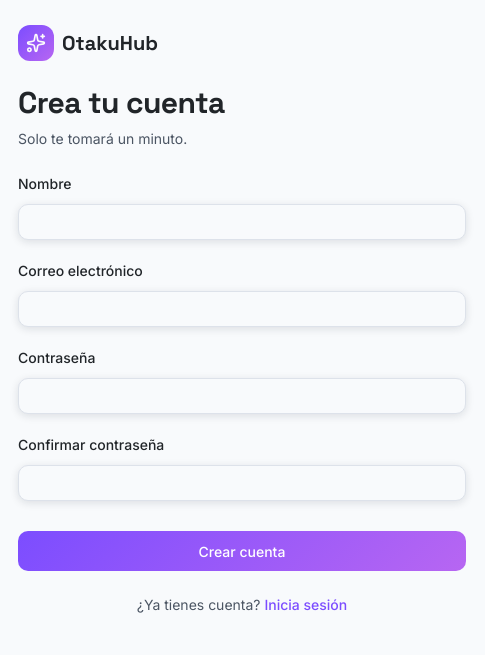
Test: Register Form › should show error when email is already registered
In the field with id "name": [242, 222] box [18, 204, 466, 240], type "Usuario Test"
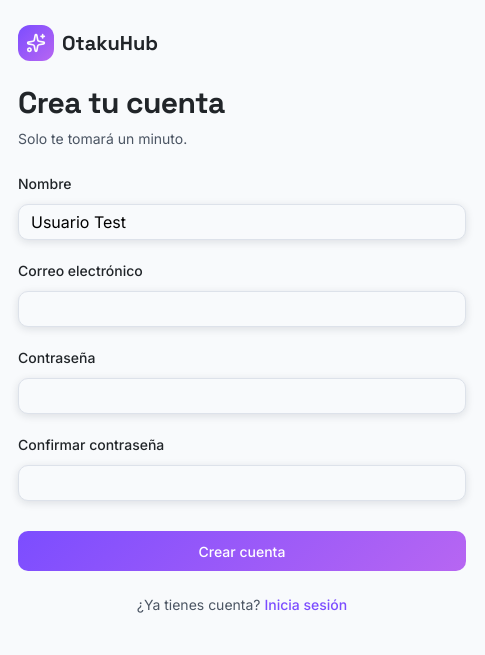
In the field with id "email": [242, 309] box [18, 291, 466, 327], type "user@otakuhub.dev"
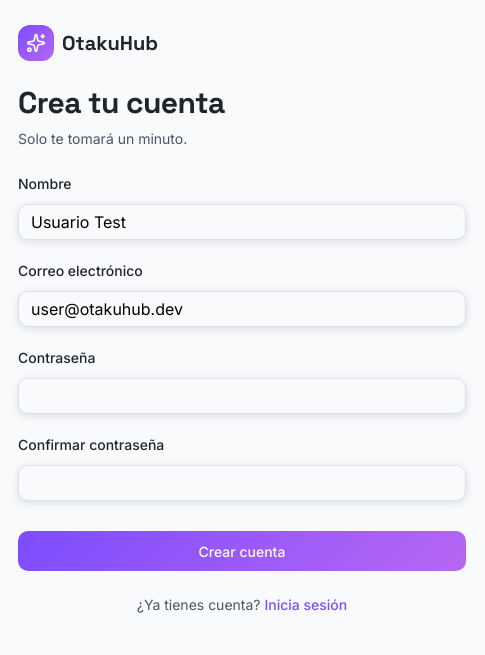
In the password field labelled "Contraseña": [242, 396] box [18, 378, 466, 414], type "123456"
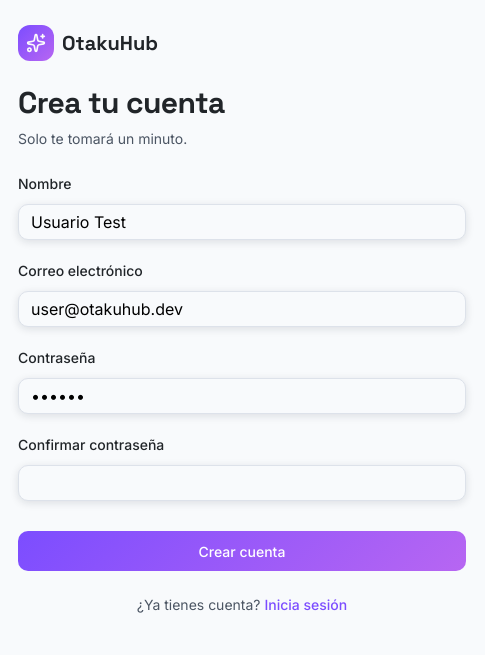
In the password field with id "confirm-password": [242, 483] box [18, 465, 466, 501], type "123456"
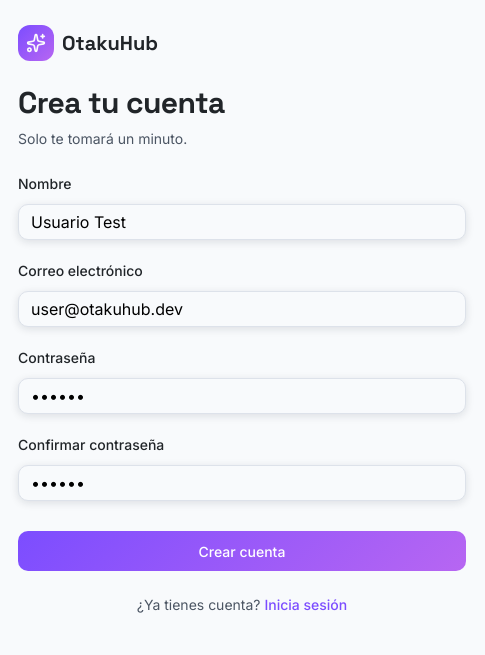
Submit the form
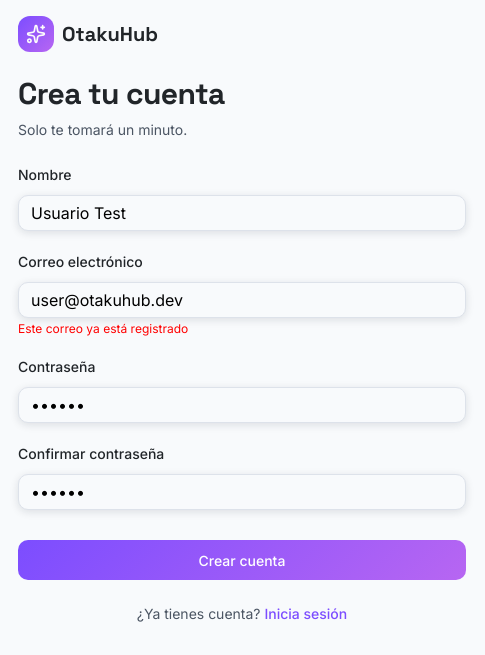
Check: the text "Este correo ya está registrado" is shown, box [18, 321, 188, 336]
